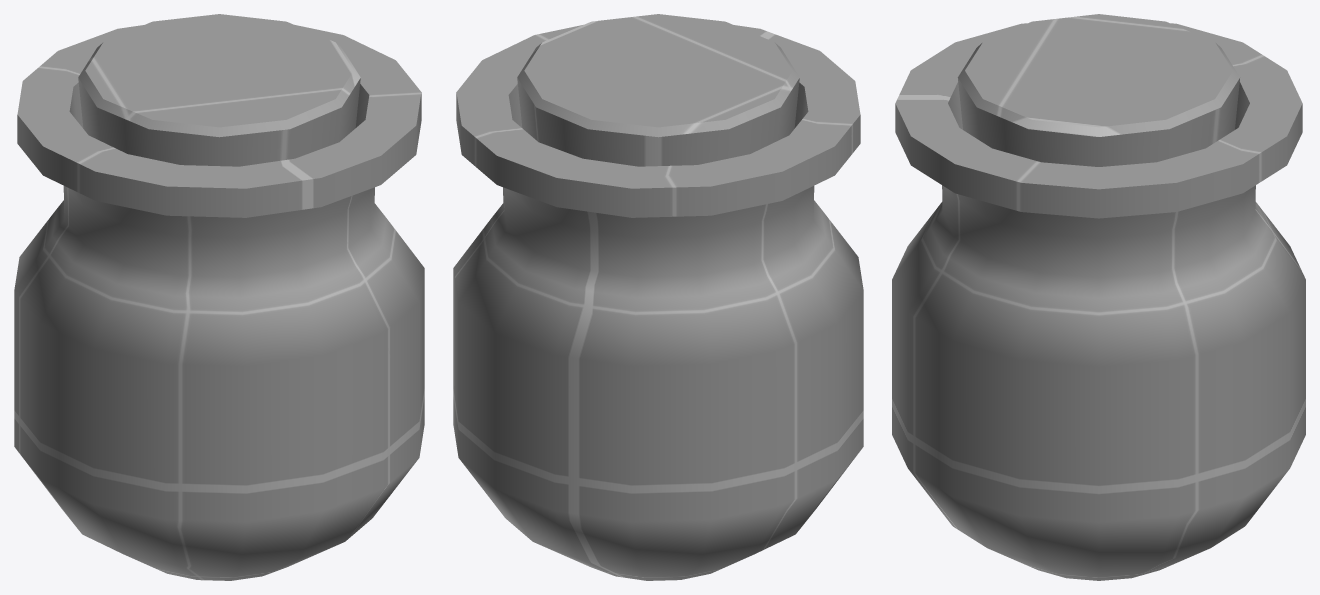
The model's file is Potjar_01.fbx.
3 views of the same model, side by side, from view 1: azimuth 30°, elevation 25°; view 2: azimuth 150°, elevation 25°; view 3: azimuth 270°, elevation 25° (orthographic).
Parts seen in each view (by area): view 1: Potjar_01, Potjar_01_Cap; view 2: Potjar_01, Potjar_01_Cap; view 3: Potjar_01, Potjar_01_Cap.
Part boxes in pixels (box(x1,y1,x2,y2)): Potjar_01: box(14, 25, 424, 580); Potjar_01_Cap: box(78, 14, 360, 166); Potjar_01: box(453, 25, 863, 580); Potjar_01_Cap: box(517, 14, 799, 166); Potjar_01: box(892, 23, 1305, 580); Potjar_01_Cap: box(957, 14, 1240, 166).
Bounding box in the file's own units: 72.06 × 91.08 × 72.06.
